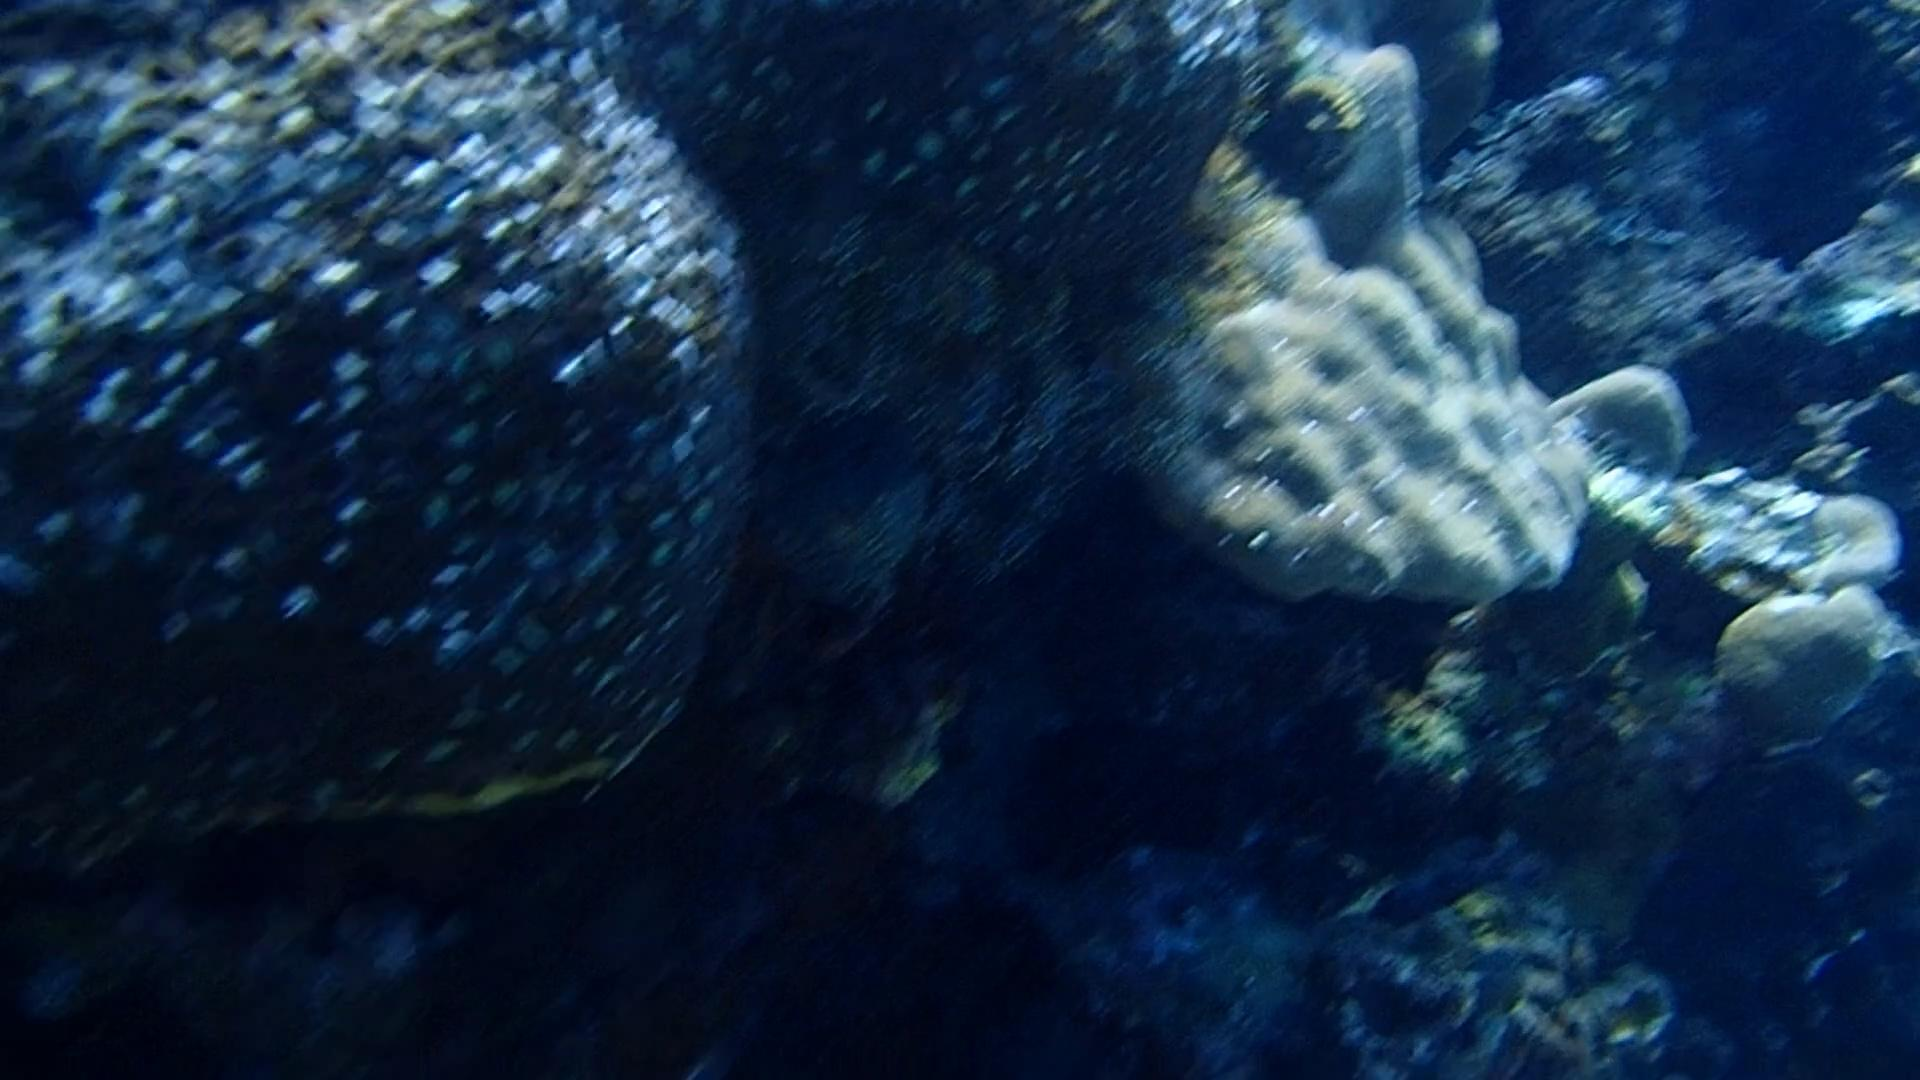Dark Fish: (1501, 123, 1629, 204)
